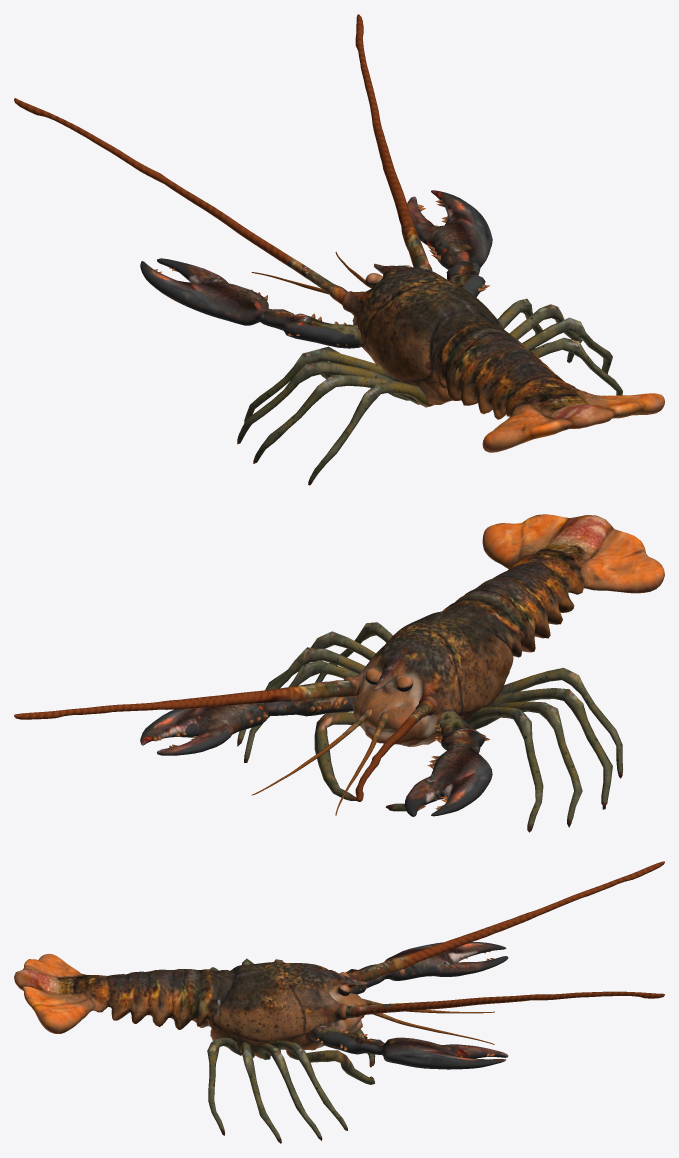
The model's file is Homarus americanus Lobster.glb.
3 views of the same model, one above another, from view 1: azimuth 30°, elevation 25°; view 2: azimuth 150°, elevation 25°; view 3: azimuth 270°, elevation 25° (orthographic). The views are drawn at different scales.
Parts seen in each view (by area): view 1: group3pCone20; view 2: group3pCone20; view 3: group3pCone20.
Boxes of the visible parts, x1,y1,x2,y2 form: group3pCone20: (14,14,664,485); group3pCone20: (14,514,664,832); group3pCone20: (14,861,664,1143).
Bounding box in the file's own units: 279 × 143 × 564.
1 material, 1 textured.
